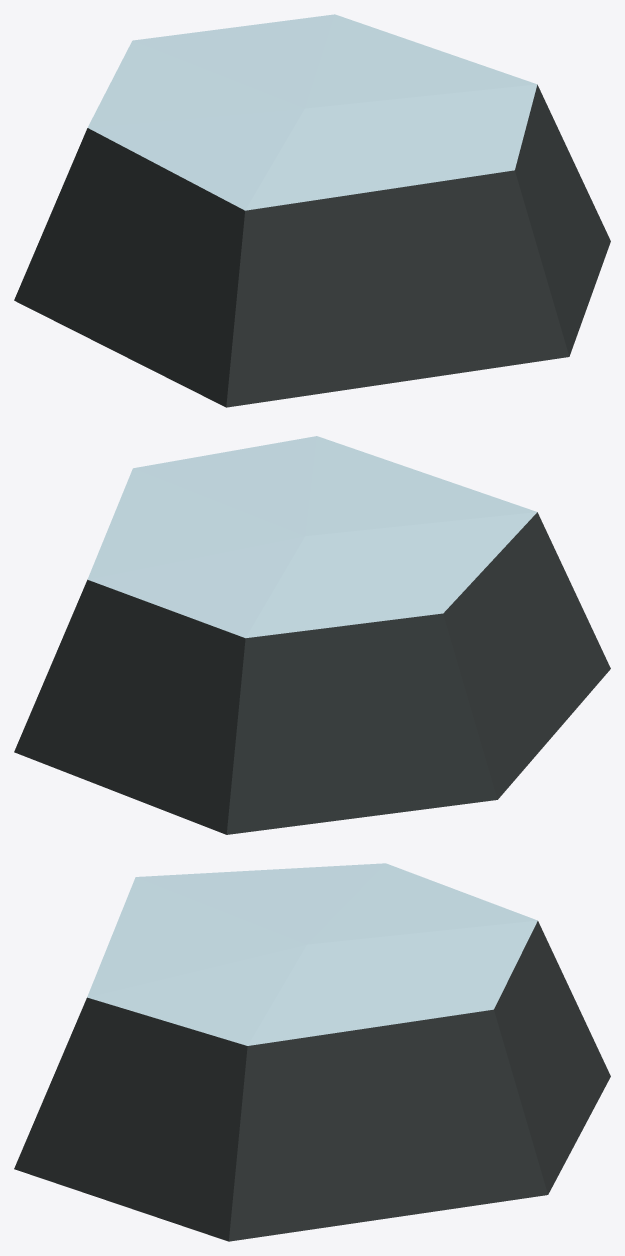
The model's file is SM_Env_Western_Rock_02_Snow.fbx.
3 views of the same model, one above another, from view 1: azimuth 30°, elevation 25°; view 2: azimuth 150°, elevation 25°; view 3: azimuth 270°, elevation 25° (orthographic).
Visible parts, largest first — view 1: SM_Env_Western_Rock_02_Snow; view 2: SM_Env_Western_Rock_02_Snow; view 3: SM_Env_Western_Rock_02_Snow.
Boxes of the visible parts, x1=… form: SM_Env_Western_Rock_02_Snow: x1=14, y1=14, x2=610, y2=407; SM_Env_Western_Rock_02_Snow: x1=14, y1=436, x2=610, y2=834; SM_Env_Western_Rock_02_Snow: x1=14, y1=863, x2=610, y2=1241.
Size of the model in its own units: 38.17 by 16.26 by 39.08.
1 material, 1 textured.
